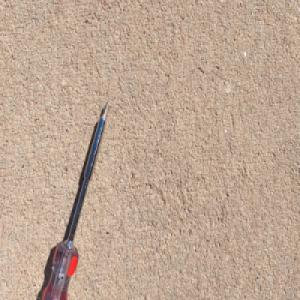Screwdriver: (38, 99, 111, 300)
